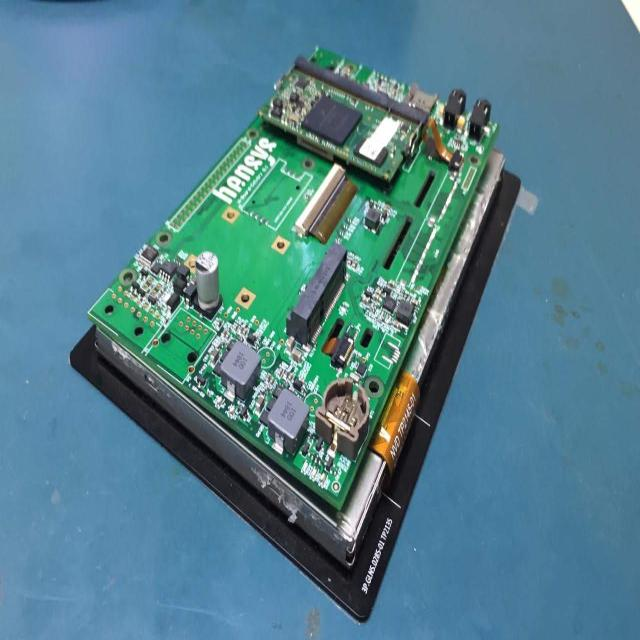som: (252, 73, 426, 188)
